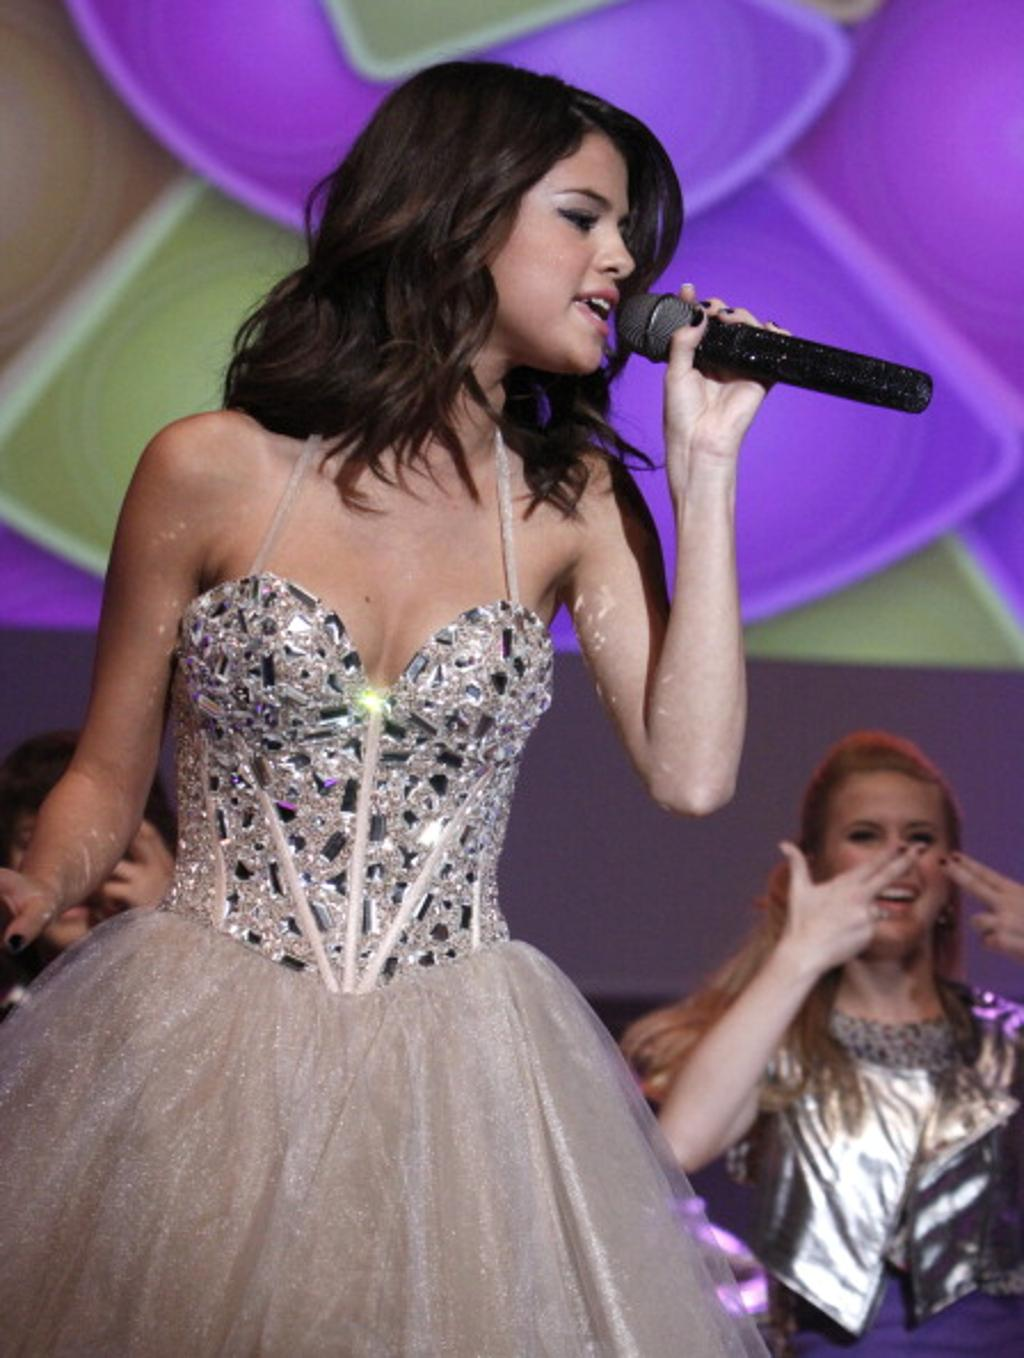face: (491, 122, 634, 374), (817, 772, 944, 942)
